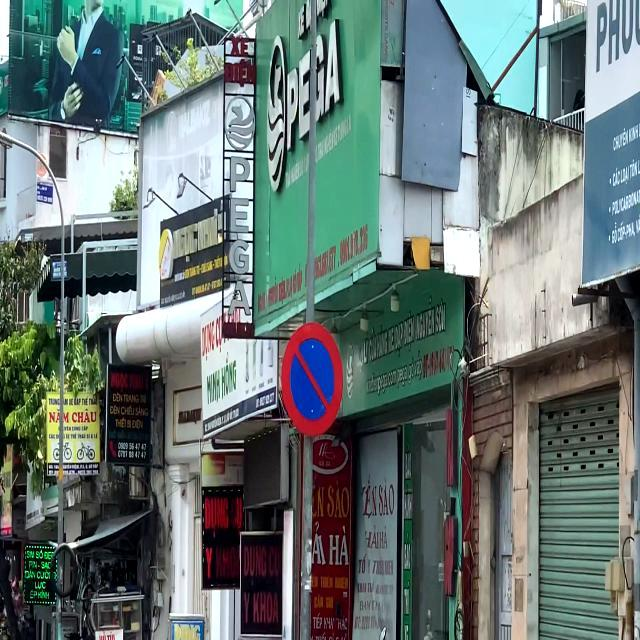Cam do xe: (281, 322, 344, 437)
